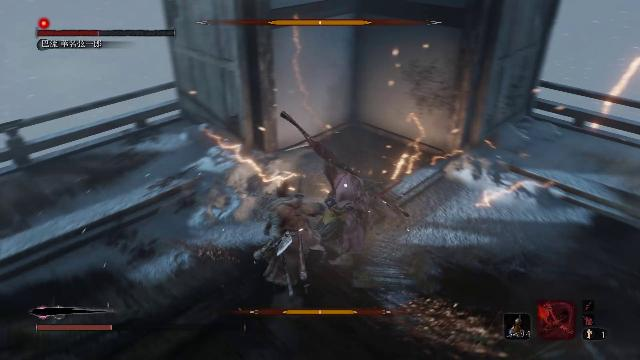sk: (250, 180, 331, 291)
